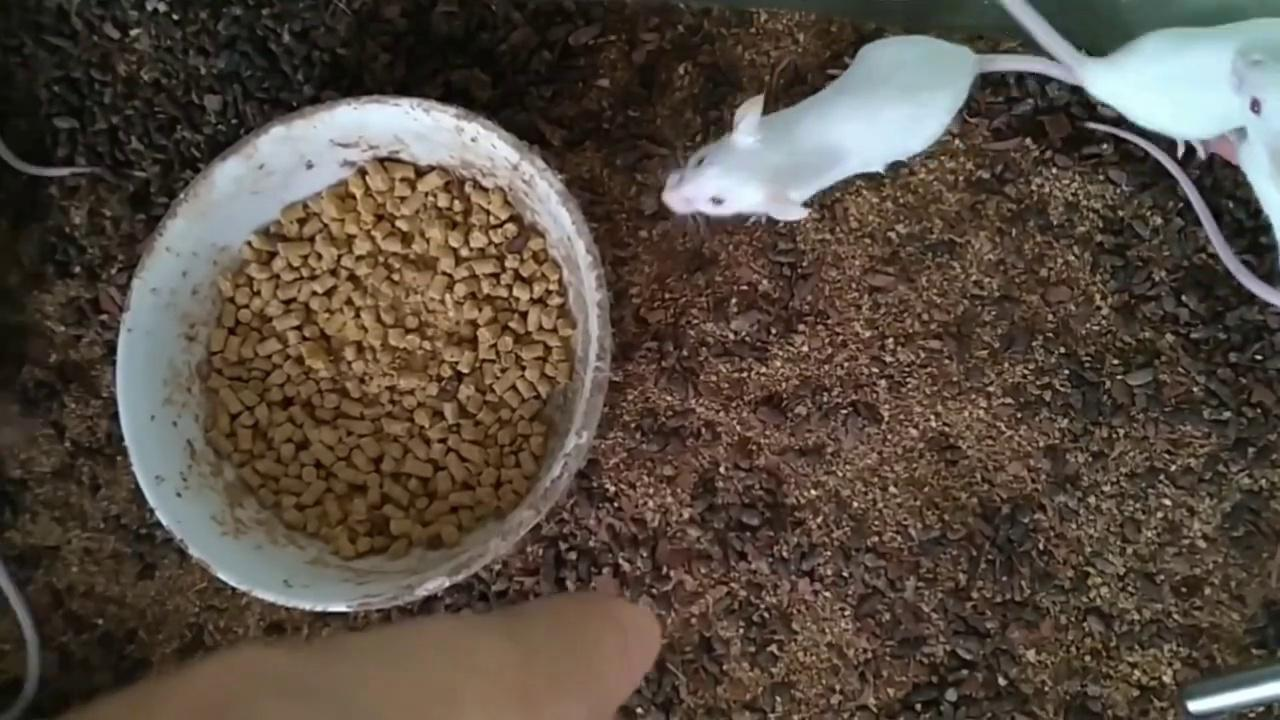rat: (663, 34, 1074, 219), (1235, 45, 1280, 263)
